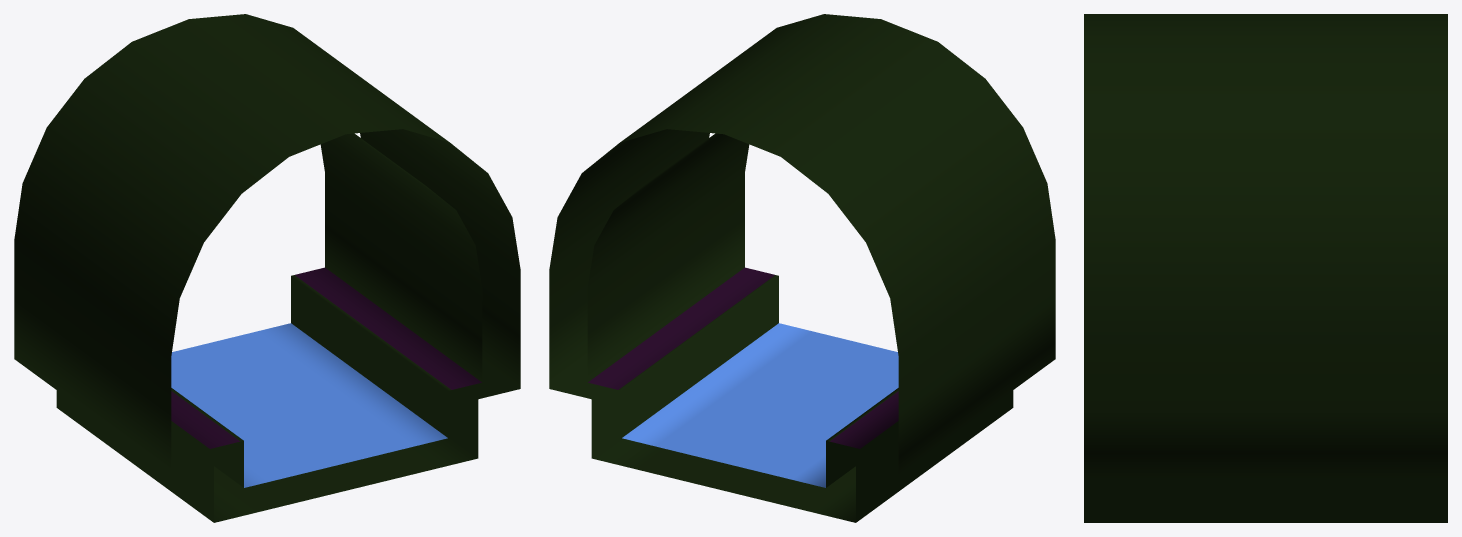
Rendered from Sewer_Modular_Straight_2.fbx.
The picture shows the model from 3 angles, left to right: view 1: azimuth 30°, elevation 25°; view 2: azimuth 150°, elevation 25°; view 3: azimuth 270°, elevation 25°; orthographic projection. The views are drawn at different scales.
Parts seen in each view (by area): view 1: Module_straight.main.017; view 2: Module_straight.main.017; view 3: Module_straight.main.017.
Part boxes in pixels (x1=…): Module_straight.main.017: x1=14, y1=14, x2=520, y2=522; Module_straight.main.017: x1=549, y1=14, x2=1055, y2=522; Module_straight.main.017: x1=1084, y1=14, x2=1447, y2=522.
Size of the model in its own units: 1026 by 1001 by 800.
